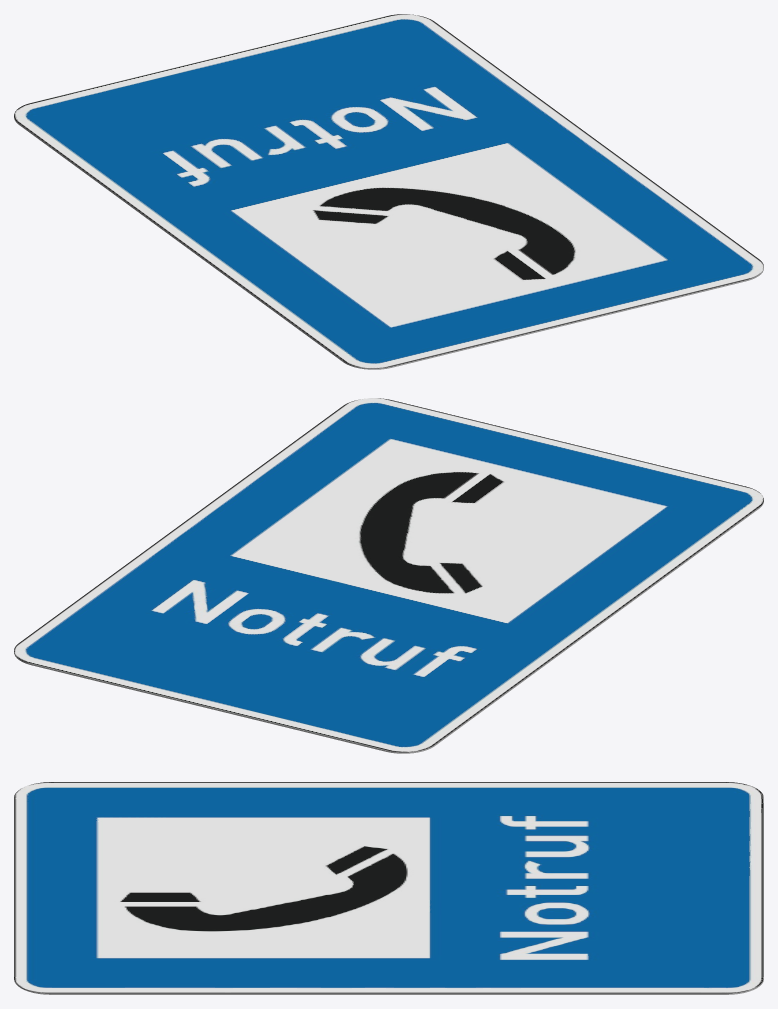
Rendered from 365-52alt.obj.
The picture shows the model from 3 angles, top to bottom: view 1: azimuth 30°, elevation 25°; view 2: azimuth 150°, elevation 25°; view 3: azimuth 270°, elevation 25°; orthographic projection. The views are drawn at different scales.
Parts seen in each view (by area): view 1: Plane; view 2: Plane; view 3: Plane.
Boxes of the visible parts, x1=… form: Plane: x1=14, y1=14, x2=763, y2=369; Plane: x1=14, y1=398, x2=763, y2=753; Plane: x1=14, y1=782, x2=763, y2=994.
Size of the model in its own units: 0.6 by 0.002 by 0.9.
2 materials, 1 textured.
